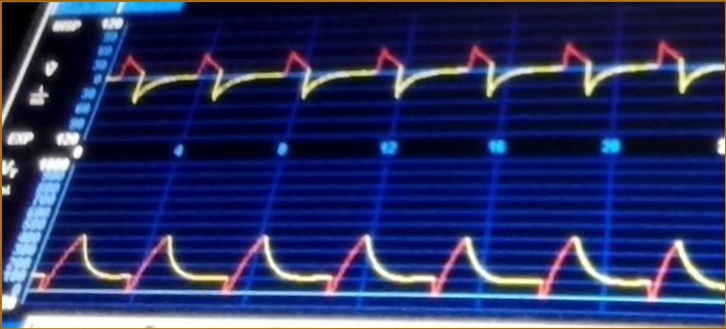Flow: (118, 29, 726, 137)
Leakage Volume: (50, 204, 726, 313)
